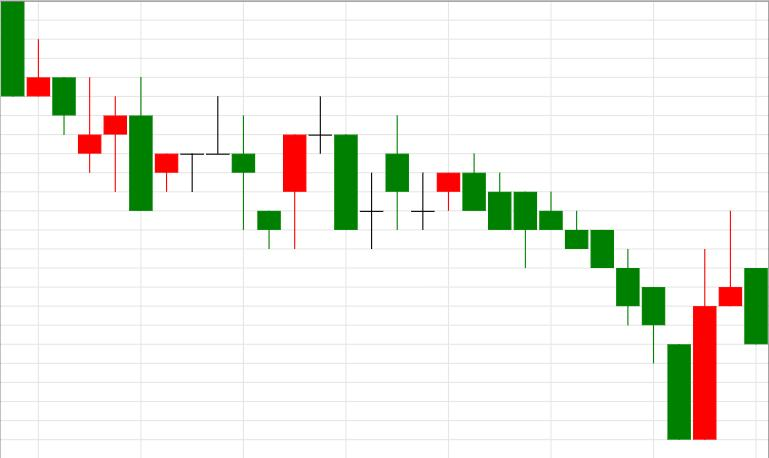bullish_engulfing_rise: (462, 151, 716, 439)
